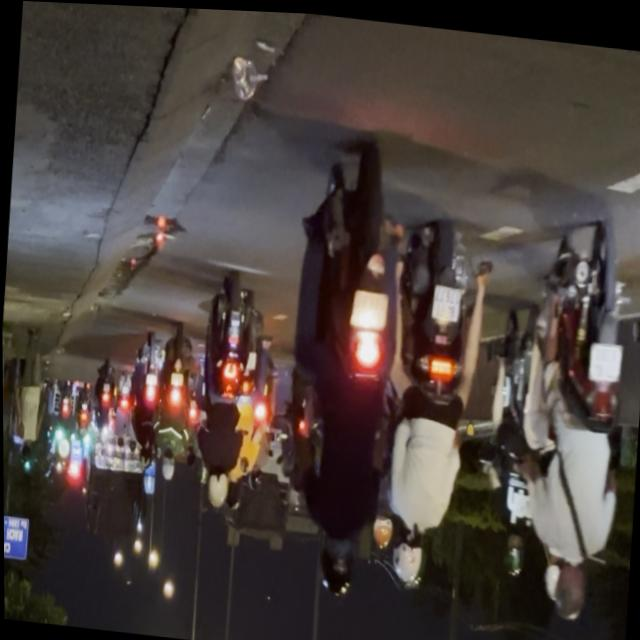helmet: (315, 530, 357, 598), (548, 552, 588, 617), (390, 522, 426, 582), (499, 521, 528, 573), (540, 551, 563, 605), (202, 461, 228, 507)
licenseplate: (268, 133, 413, 605), (506, 209, 640, 623), (370, 208, 497, 591), (183, 267, 261, 510)
nohelmet: (350, 286, 387, 326), (586, 336, 622, 376), (430, 280, 460, 319)
